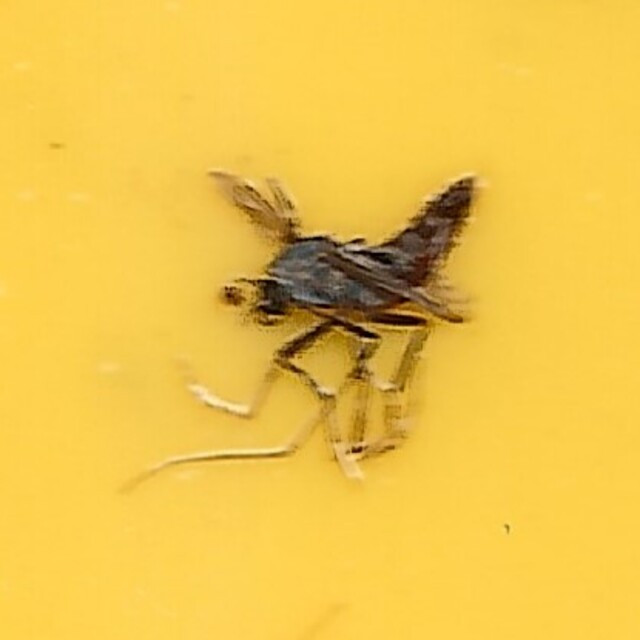Nematocera: (154, 160, 486, 480)
